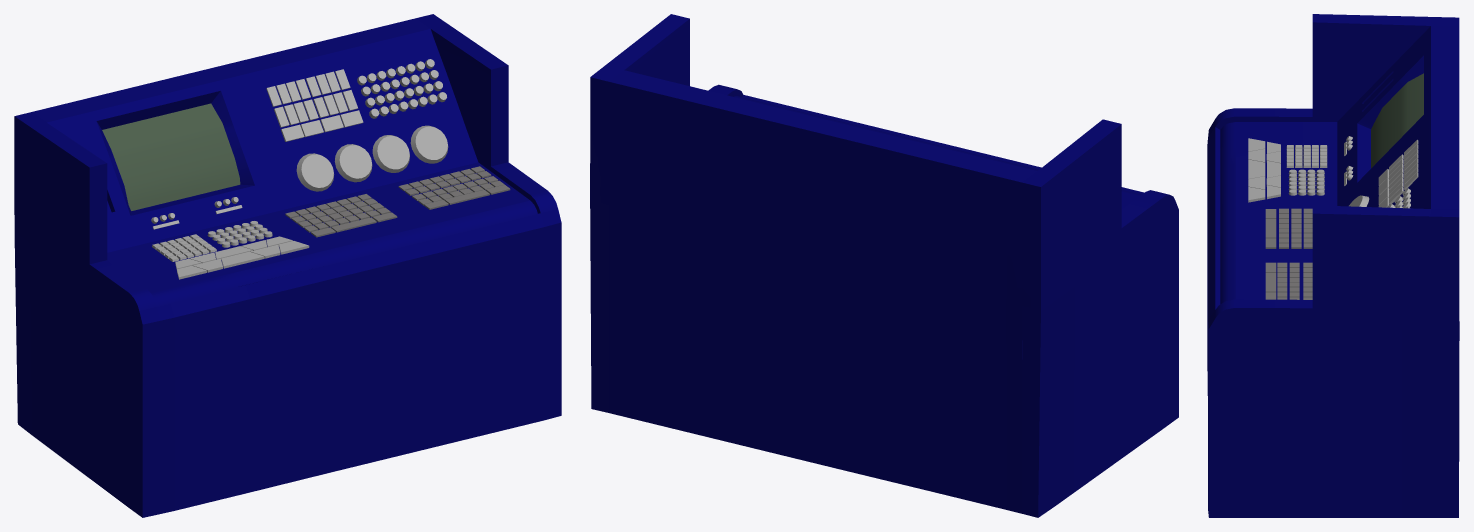
The model's file is Regular.fbx.
3 renders of one model, left to right at view 1: azimuth 30°, elevation 25°; view 2: azimuth 150°, elevation 25°; view 3: azimuth 270°, elevation 25°, orthographic. The views are drawn at different scales.
Parts seen in each view (by area): view 1: polySurface7; view 2: polySurface7; view 3: polySurface7.
Part boxes in pixels (x1,y1,x2,y2): polySurface7: (14,14,561,517); polySurface7: (590,14,1178,517); polySurface7: (1207,14,1459,517).
Bounding box in the file's own units: 19.7 × 14.03 × 10.51.
